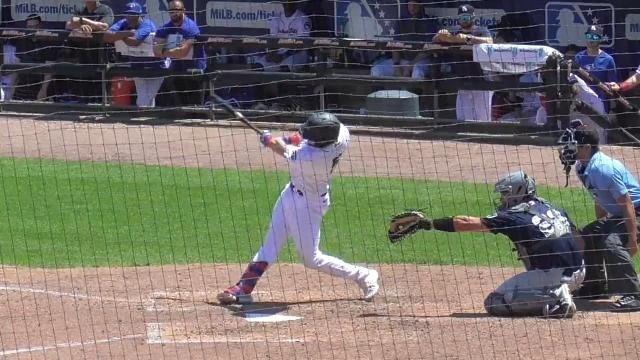ball: (124, 26, 136, 38)
bat: (208, 92, 262, 136)
